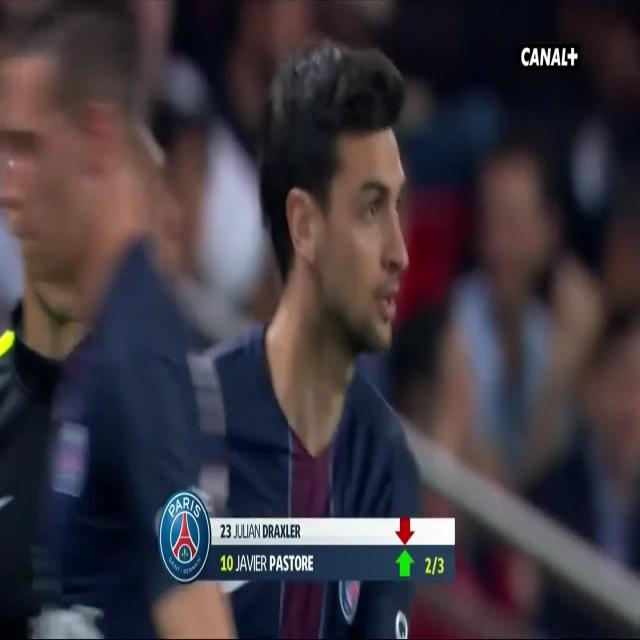Player: (190, 43, 429, 640)
